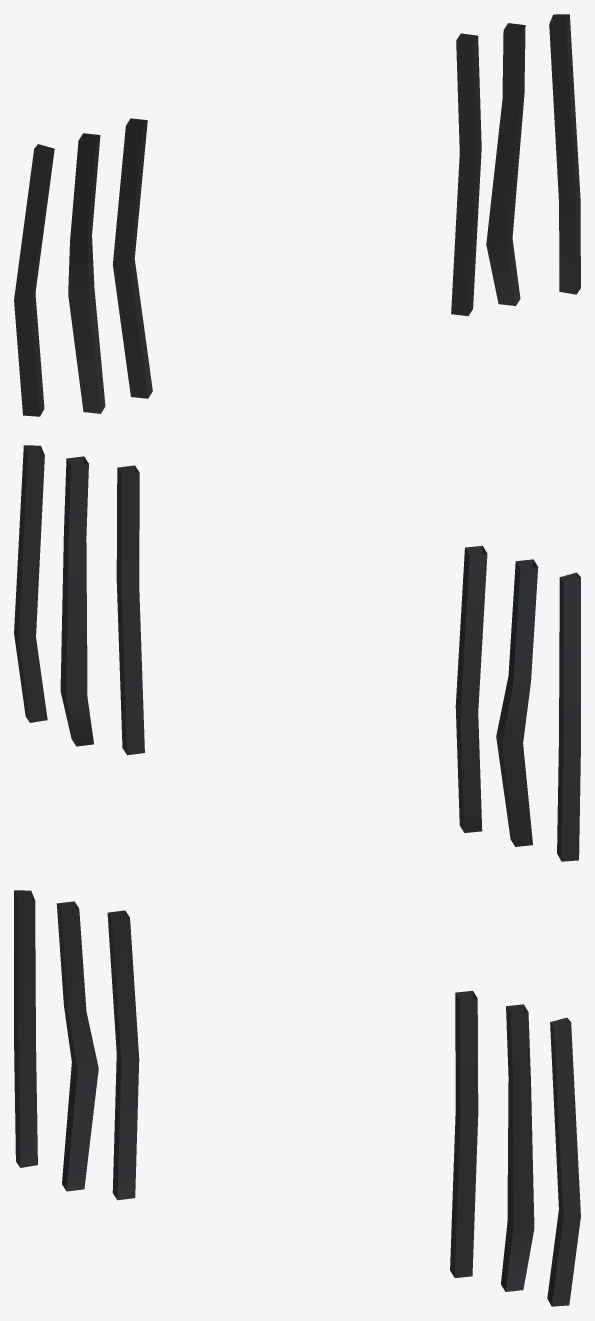
The model's file is SM_Env_Wall_Window_Bars_01.FBX.
3 renders of one model, top to bottom at view 1: azimuth 30°, elevation 25°; view 2: azimuth 150°, elevation 25°; view 3: azimuth 330°, elevation 25°, orthographic. The views are drawn at different scales.
Visible parts, largest first — view 1: SM_Env_Wall_Window_Bars_01; view 2: SM_Env_Wall_Window_Bars_01; view 3: SM_Env_Wall_Window_Bars_01.
Boxes of the visible parts, bbox=[...] form: SM_Env_Wall_Window_Bars_01: bbox=[14, 14, 580, 416]; SM_Env_Wall_Window_Bars_01: bbox=[14, 445, 580, 861]; SM_Env_Wall_Window_Bars_01: bbox=[14, 890, 580, 1306].
Size of the model in its own units: 318 by 30.66 by 150.
